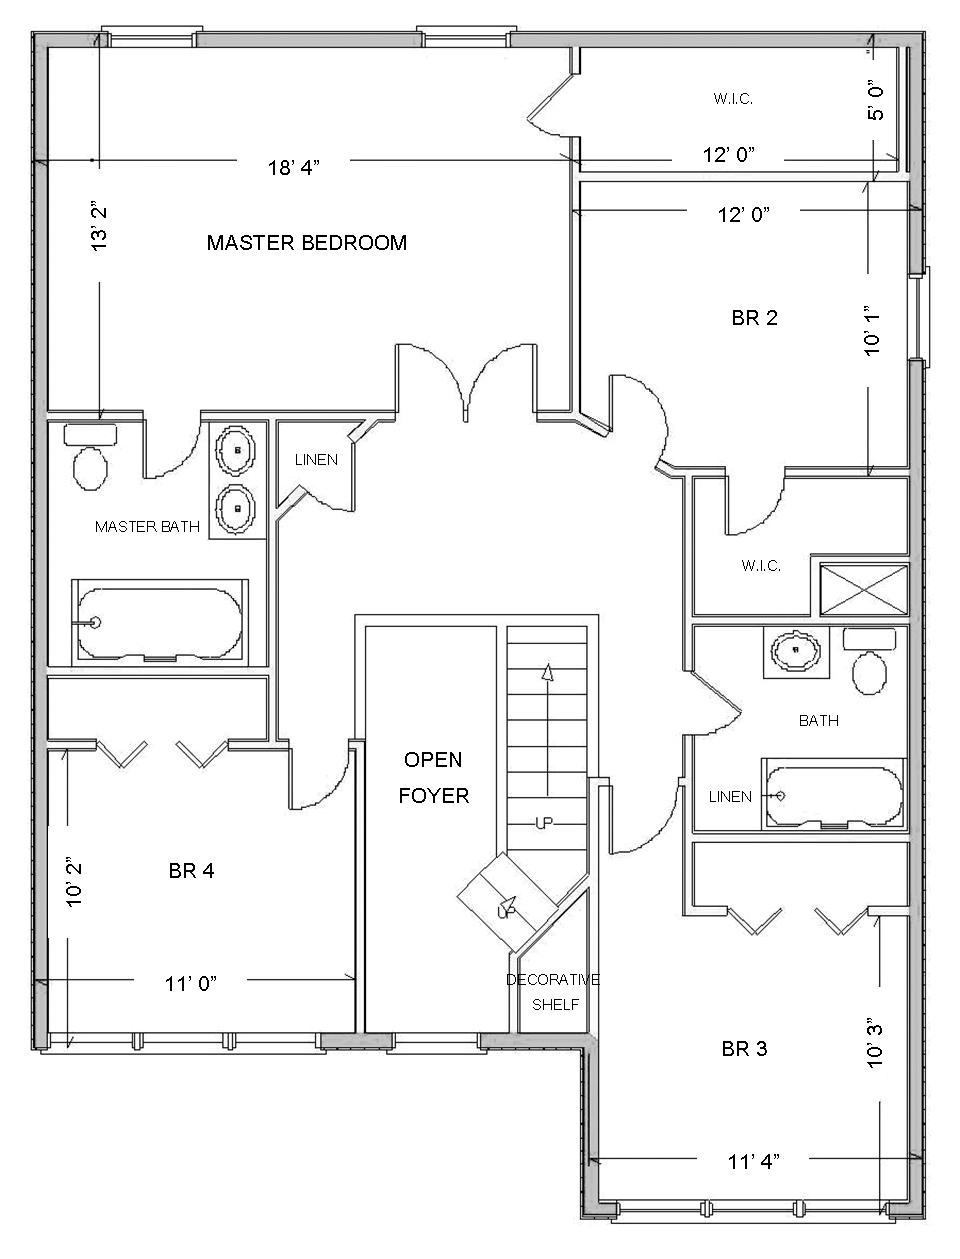bathroom: (38, 411, 277, 681)
door: (366, 303, 547, 398), (596, 345, 688, 440), (602, 792, 672, 873), (302, 452, 383, 520), (713, 490, 804, 551), (696, 675, 760, 758), (124, 430, 204, 492), (270, 760, 349, 822), (507, 75, 575, 137)
room: (30, 30, 583, 413), (568, 32, 924, 479), (587, 781, 919, 1222), (36, 734, 368, 1071)
window: (802, 1177, 890, 1247), (224, 1019, 324, 1081), (136, 1020, 230, 1083), (424, 3, 513, 68), (51, 1019, 141, 1083), (105, 15, 194, 79), (704, 1179, 798, 1226), (883, 277, 939, 354), (396, 1022, 483, 1066), (607, 1194, 715, 1228)
